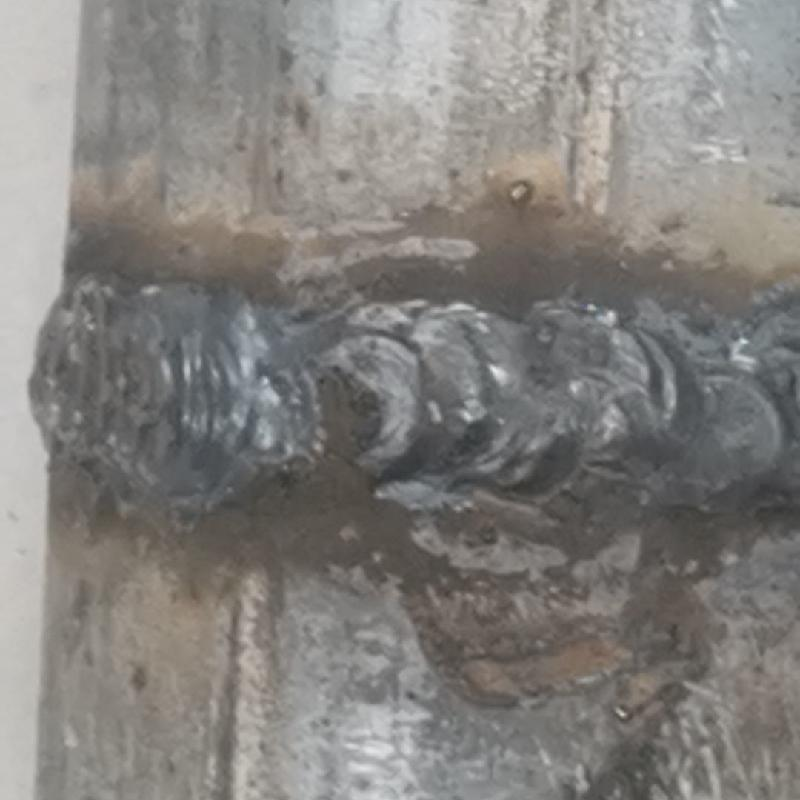good: (23, 270, 799, 533)
